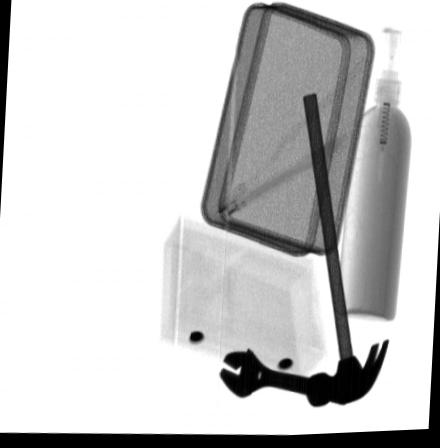Hammer: (303, 94, 387, 408)
Wrench: (219, 349, 346, 409)
